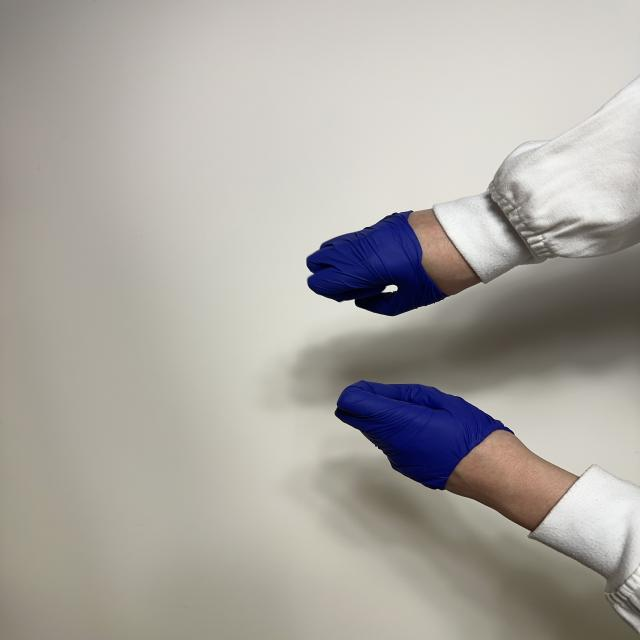glove_not_fitted: (335, 378, 579, 530), (306, 207, 487, 318)
